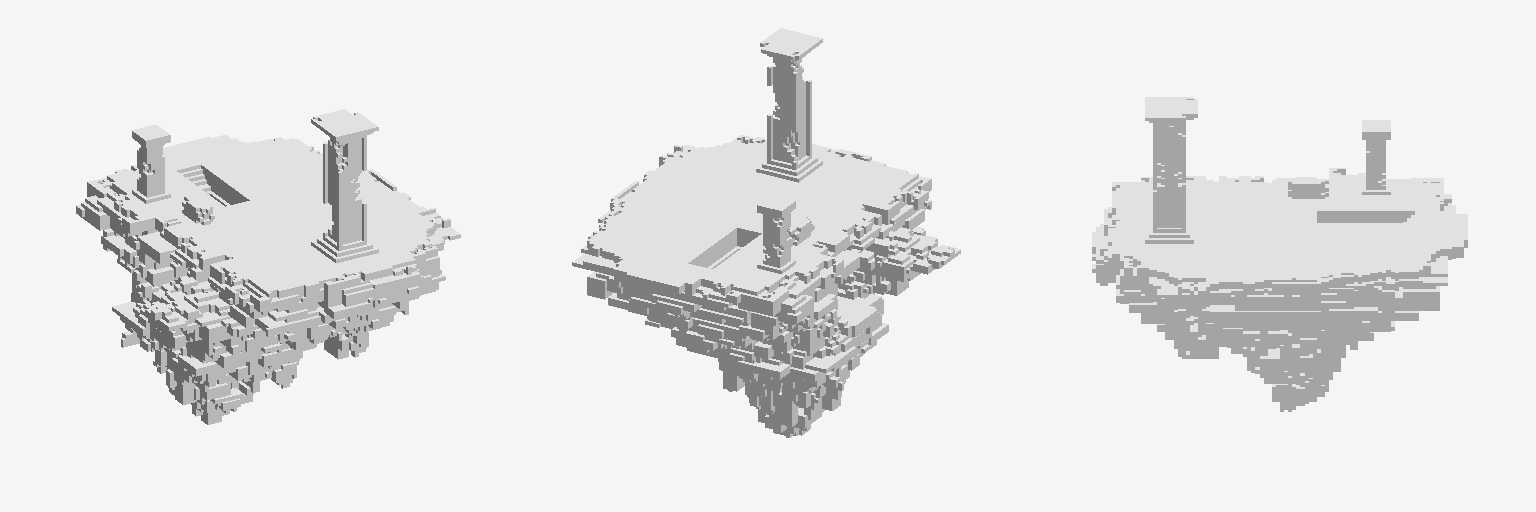
Rendered from ReadyArea.obj.
3 views of the same model, side by side, from view 1: azimuth 30°, elevation 25°; view 2: azimuth 150°, elevation 25°; view 3: azimuth 270°, elevation 25° (orthographic).
Size of the model in its own units: 81 by 89 by 92.